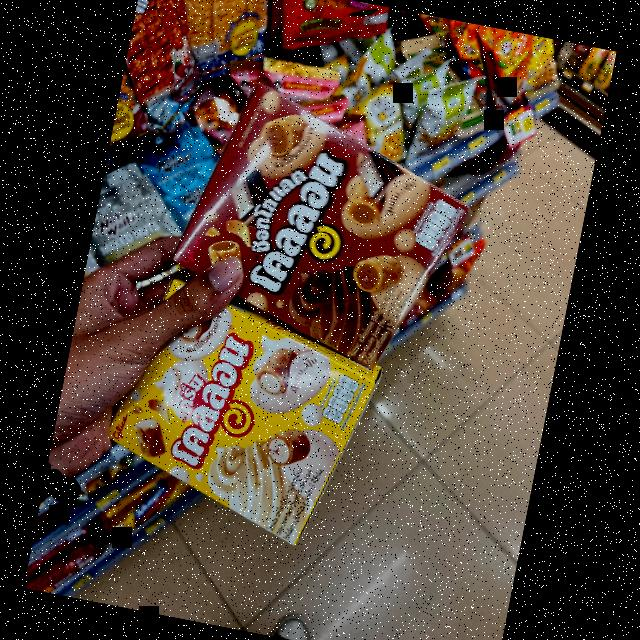cardboard_box: (152, 70, 486, 378), (80, 267, 407, 563)
